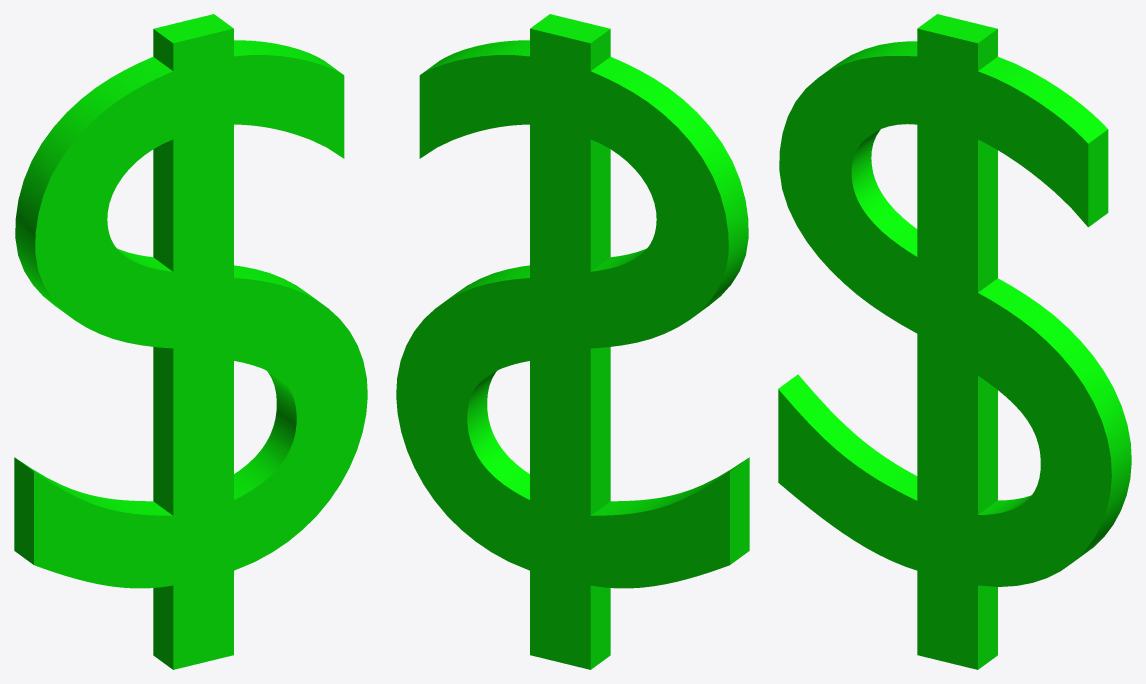
File: dollarsign.fbx
The picture shows the model from 3 angles, left to right: view 1: azimuth 30°, elevation 25°; view 2: azimuth 150°, elevation 25°; view 3: azimuth 330°, elevation 25°; orthographic projection.
Parts seen in each view (by area): view 1: Object_2; view 2: Object_2; view 3: Object_2.
Boxes of the visible parts, bbox=[...] form: Object_2: bbox=[14, 14, 367, 669]; Object_2: bbox=[396, 14, 749, 669]; Object_2: bbox=[778, 14, 1131, 669].
Size of the model in its own units: 271 by 485 by 27.97.
